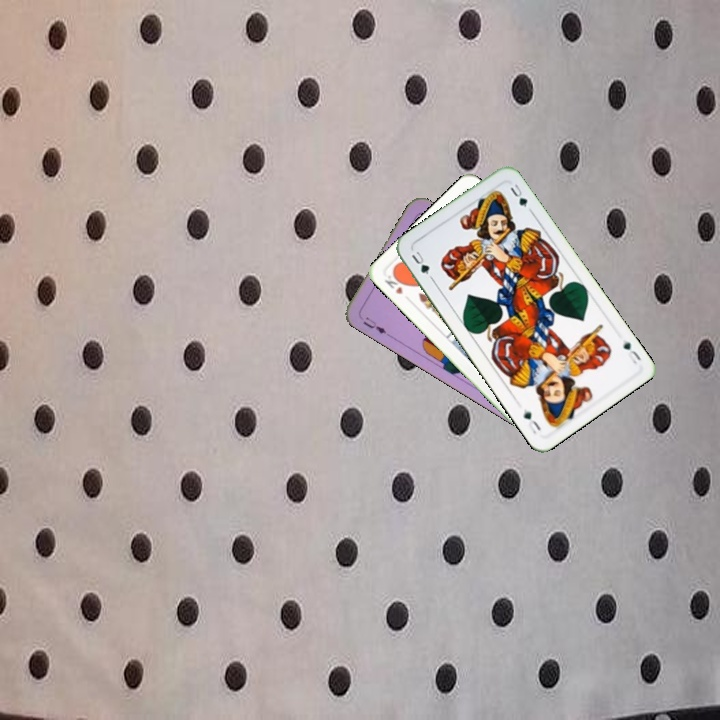EU: (359, 312, 393, 339)
GU: (407, 247, 432, 277), (619, 337, 643, 367)
HK: (380, 269, 408, 297)
